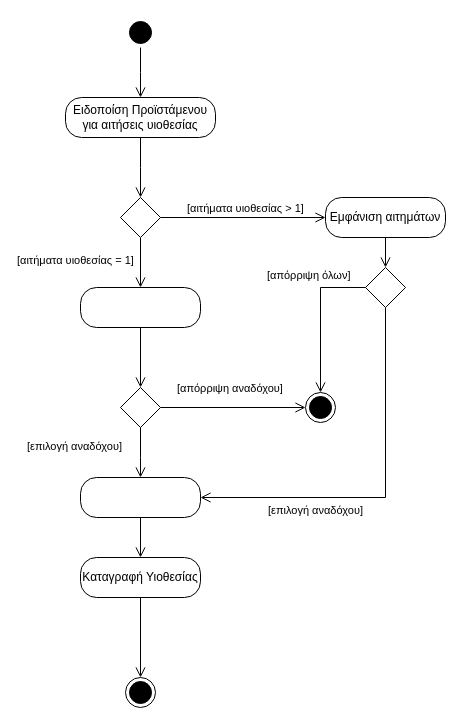
Some shapes in this 463 by 725 pixel diagram are drawn without their labels. The centre of each missing label's shape, as x and y in pixels:
Έγκριση Αιτήματος: the point at 140,497
Εμφάνιση αιτήματος: the point at 140,307
